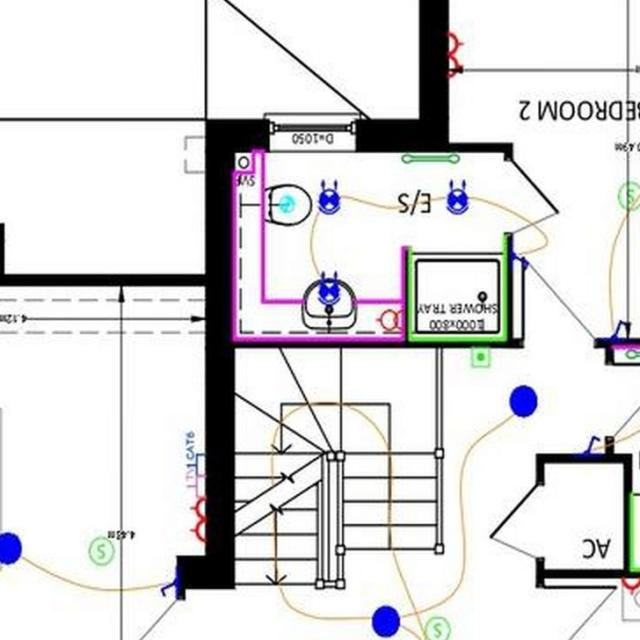Cat 6 Data Socket: (183, 431, 205, 478)
Ceiling Mounted Continuous Extract FanWith Boost Mode Activated By Light Switch: (280, 198, 296, 214)
Co-Ax TV Socket: (184, 469, 207, 498)
Double Socket: (191, 499, 207, 544), (449, 34, 464, 78), (623, 579, 640, 596)
Full Height Tiling: (409, 231, 509, 341)
Light Switch: (610, 322, 630, 338), (161, 578, 177, 597), (514, 251, 530, 270), (584, 436, 600, 454)
Low Energy Downlighter: (318, 180, 342, 216), (317, 273, 342, 305), (448, 180, 470, 216)
Low Energy Pendant Light: (510, 385, 539, 419), (372, 606, 401, 638), (0, 534, 23, 566)
Mains Wired Smoke Detector: (90, 537, 115, 566), (619, 183, 640, 212), (425, 618, 451, 640)
Programmable Room Thermostat: (472, 349, 491, 367)
Shaver Socket: (375, 308, 407, 334)
